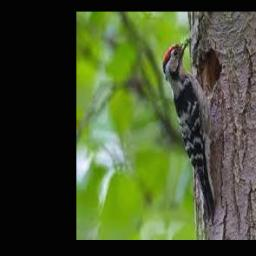Woodpecker: (163, 37, 221, 223)
